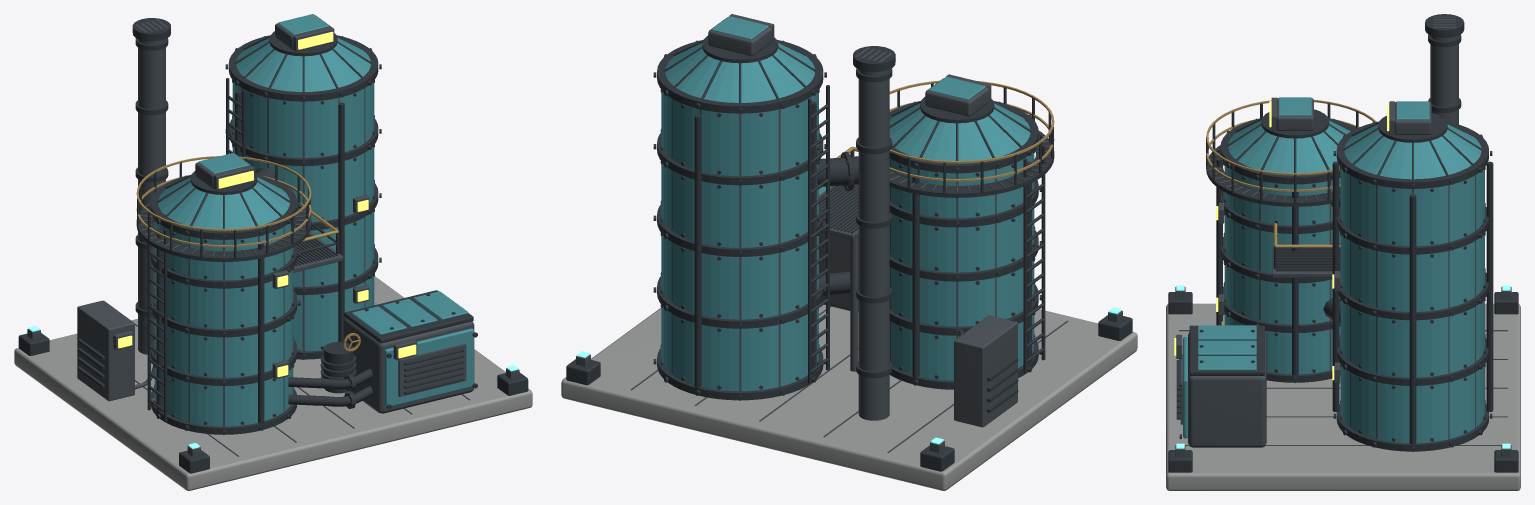
The model's file is refinery.glb.
3 renders of one model, left to right at view 1: azimuth 30°, elevation 25°; view 2: azimuth 150°, elevation 25°; view 3: azimuth 270°, elevation 25°, orthographic. The views are drawn at different scales.
Visible parts, largest first — view 1: modelRoot:team-primary, modelRoot:neutral-metal, modelRoot:foundation-concrete, modelRoot:structure, modelRoot:copper-metal, modelRoot:system-emissive; view 2: modelRoot:team-primary, modelRoot:neutral-metal, modelRoot:foundation-concrete, modelRoot:structure, modelRoot:copper-metal; view 3: modelRoot:team-primary, modelRoot:neutral-metal, modelRoot:foundation-concrete, modelRoot:structure, modelRoot:copper-metal, modelRoot:system-emissive.
Part boxes in pixels (x1=…): modelRoot:team-primary: x1=154, y1=14, x2=473, y2=426; modelRoot:neutral-metal: x1=18, y1=18, x2=528, y2=473; modelRoot:foundation-concrete: x1=14, y1=276, x2=532, y2=490; modelRoot:structure: x1=27, y1=15, x2=519, y2=456; modelRoot:copper-metal: x1=136, y1=156, x2=360, y2=351; modelRoot:system-emissive: x1=118, y1=31, x2=416, y2=377; modelRoot:team-primary: x1=661, y1=16, x2=1034, y2=391; modelRoot:neutral-metal: x1=566, y1=35, x2=1132, y2=471; modelRoot:foundation-concrete: x1=561, y1=304, x2=1137, y2=490; modelRoot:structure: x1=576, y1=14, x2=1122, y2=452; modelRoot:copper-metal: x1=836, y1=80, x2=1054, y2=181; modelRoot:team-primary: x1=1183, y1=97, x2=1484, y2=443; modelRoot:neutral-metal: x1=1168, y1=14, x2=1518, y2=472; modelRoot:foundation-concrete: x1=1166, y1=303, x2=1520, y2=490; modelRoot:structure: x1=1175, y1=16, x2=1511, y2=456; modelRoot:copper-metal: x1=1206, y1=99, x2=1376, y2=325; modelRoot:system-emissive: x1=1174, y1=100, x2=1389, y2=380.
Size of the model in its own units: 2.7 by 2.55 by 2.35.
